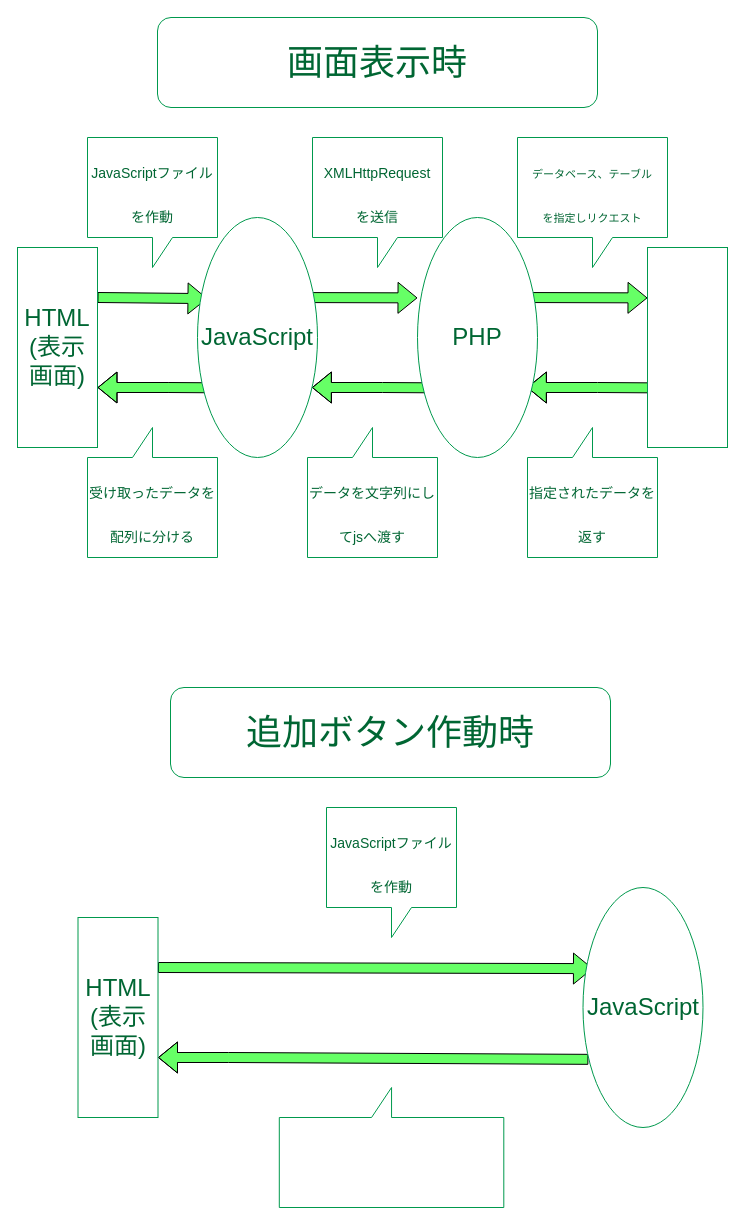
This 745x1225 diagram has some shape labels left out. Here are the shapes that lost their labels. From the top down, the centre of each, then its label:
the point at 687,347: サーバー
the point at 391,1147: 画面表示の時点で取得していたデータから1データ出力
